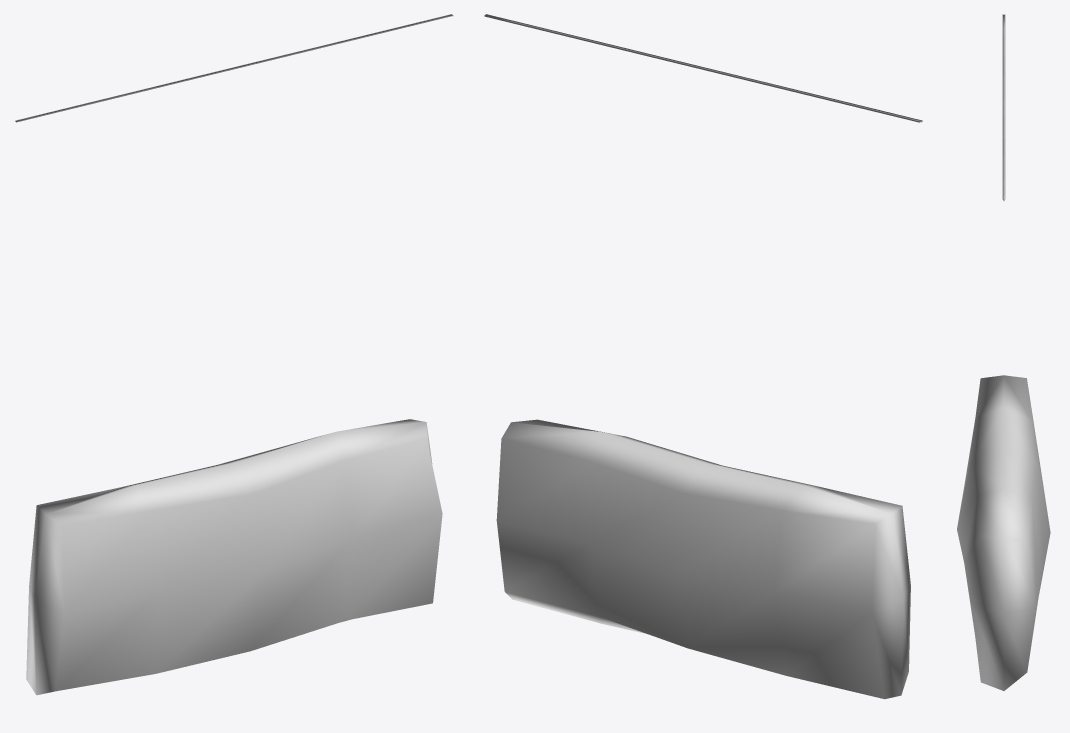
The model's file is coca_seed.fbx.
The picture shows the model from 3 angles, left to right: view 1: azimuth 30°, elevation 25°; view 2: azimuth 150°, elevation 25°; view 3: azimuth 270°, elevation 25°; orthographic projection. The views are drawn at different scales.
Parts seen in each view (by area): view 1: Drugs, Baggie; view 2: Drugs, Baggie; view 3: Drugs, Baggie.
Part boxes in pixels (x1,y1,x2,y2): Drugs: (26, 419, 442, 695); Baggie: (15, 14, 453, 122); Drugs: (496, 419, 910, 699); Baggie: (484, 14, 922, 122); Drugs: (957, 375, 1050, 690); Baggie: (1002, 14, 1005, 200).
Size of the model in its own units: 128 by 167 by 30.06.
